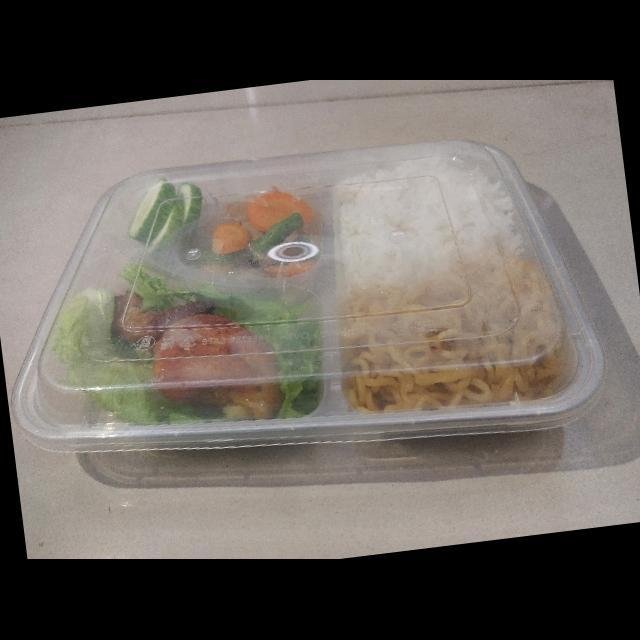bento: (14, 140, 606, 447)
